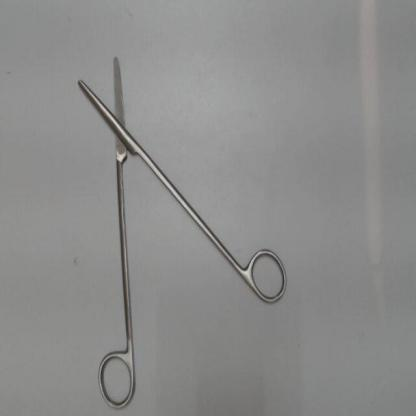9 Metzenbaum Scissors: (72, 51, 291, 414)
